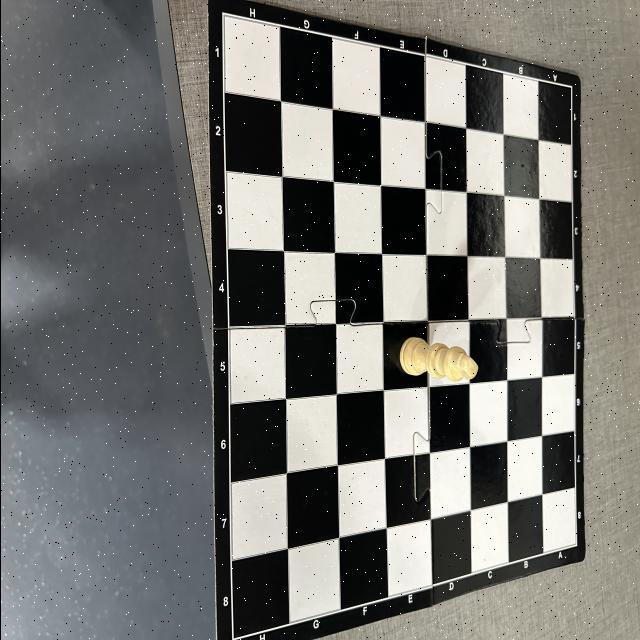White-King: (398, 337, 478, 382)
